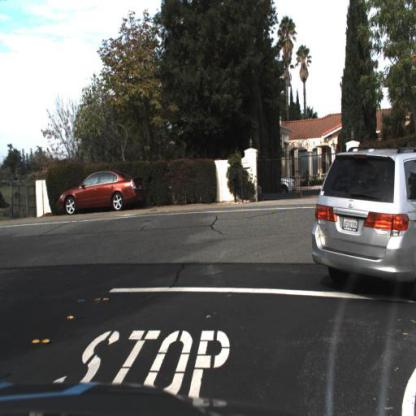car: (312, 144, 416, 295), (58, 168, 145, 222), (277, 170, 304, 194), (279, 171, 298, 192)
